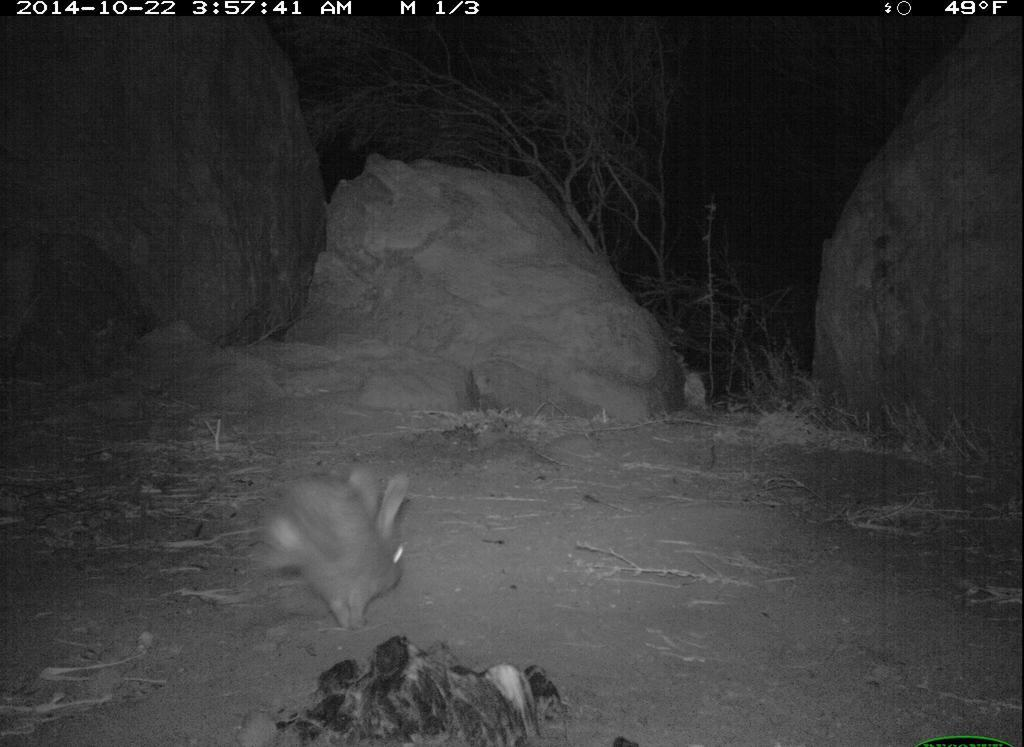rabbit: (253, 454, 427, 641)
